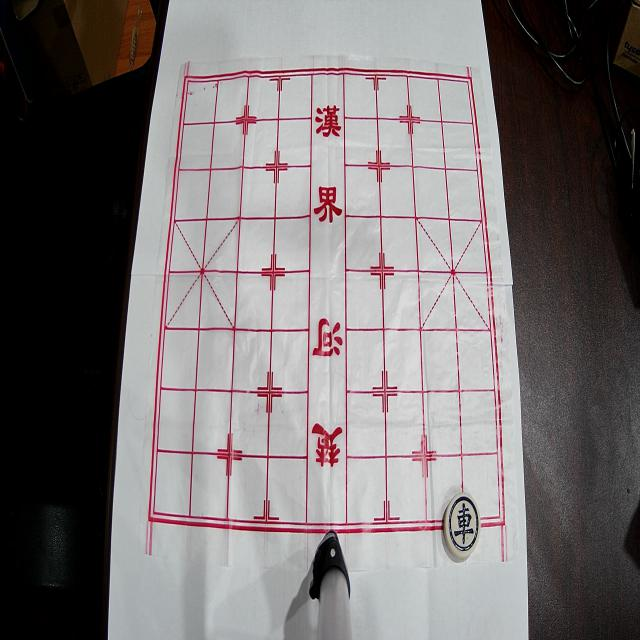black-chariot: (444, 493, 481, 559)
